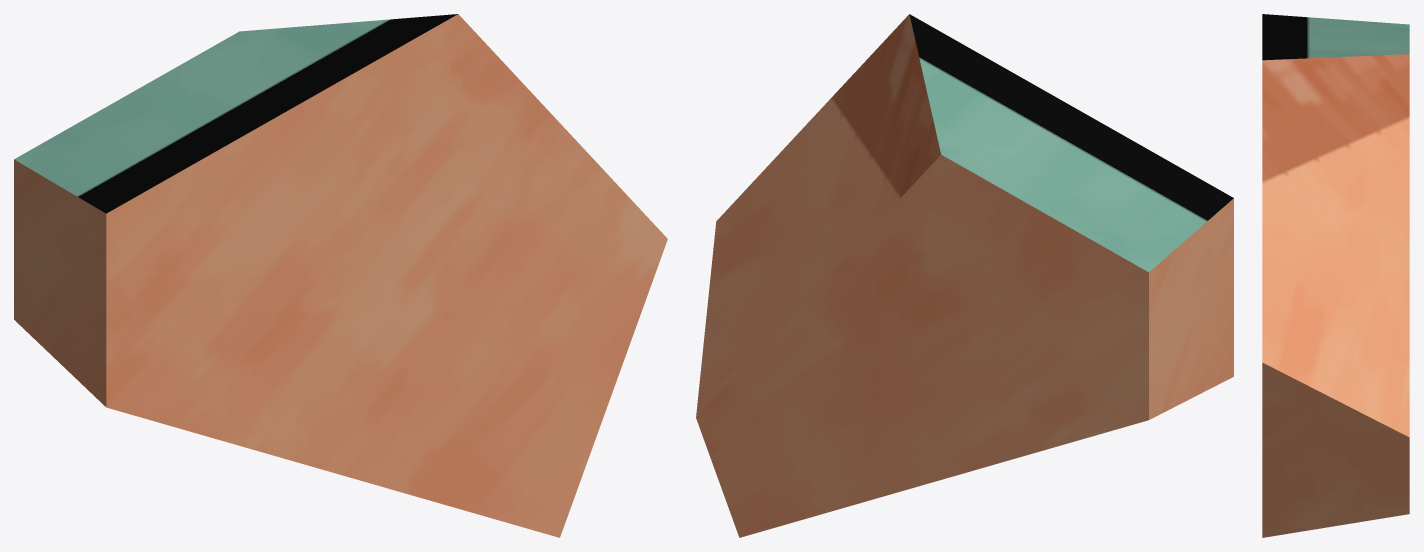
File: wall_plain_s09.fbx
3 renders of one model, left to right at view 1: azimuth 30°, elevation 25°; view 2: azimuth 150°, elevation 25°; view 3: azimuth 270°, elevation 25°, orthographic. The views are drawn at different scales.
Parts seen in each view (by area): view 1: wall_plain_s09; view 2: wall_plain_s09; view 3: wall_plain_s09.
Part boxes in pixels (x1=…): wall_plain_s09: x1=14, y1=14, x2=667, y2=537; wall_plain_s09: x1=696, y1=14, x2=1233, y2=537; wall_plain_s09: x1=1262, y1=14, x2=1409, y2=537.
Size of the model in its own units: 3.51 by 3.28 by 1.
